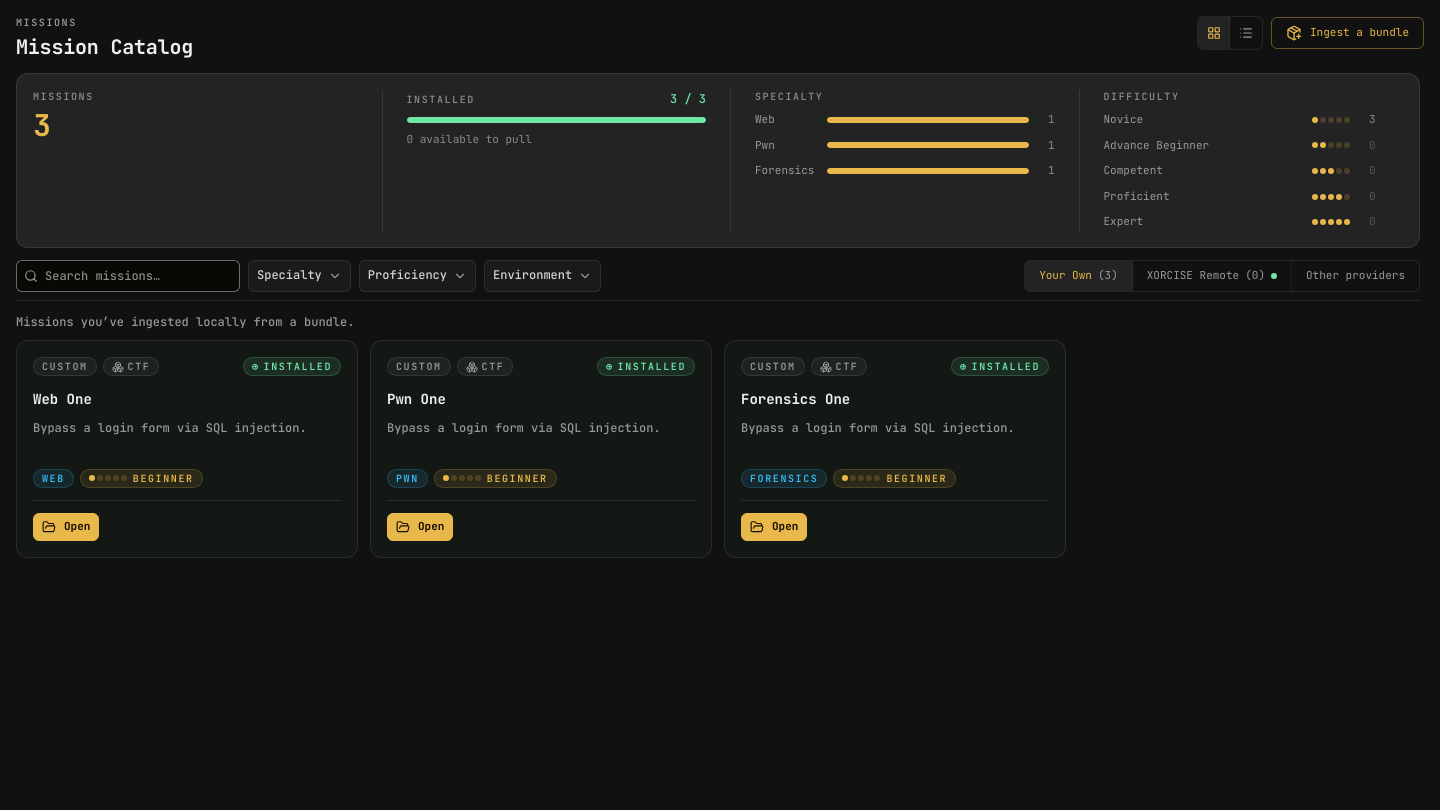
Test case: MissionCatalog › narrows the grid by SEVERAL specialties at once, and clears back to all
Expected: the text "Web One" is shown, left=33, top=390, right=92, bottom=408
Click the button "Specialty" at (299, 276), box left=248, top=260, right=351, bottom=292
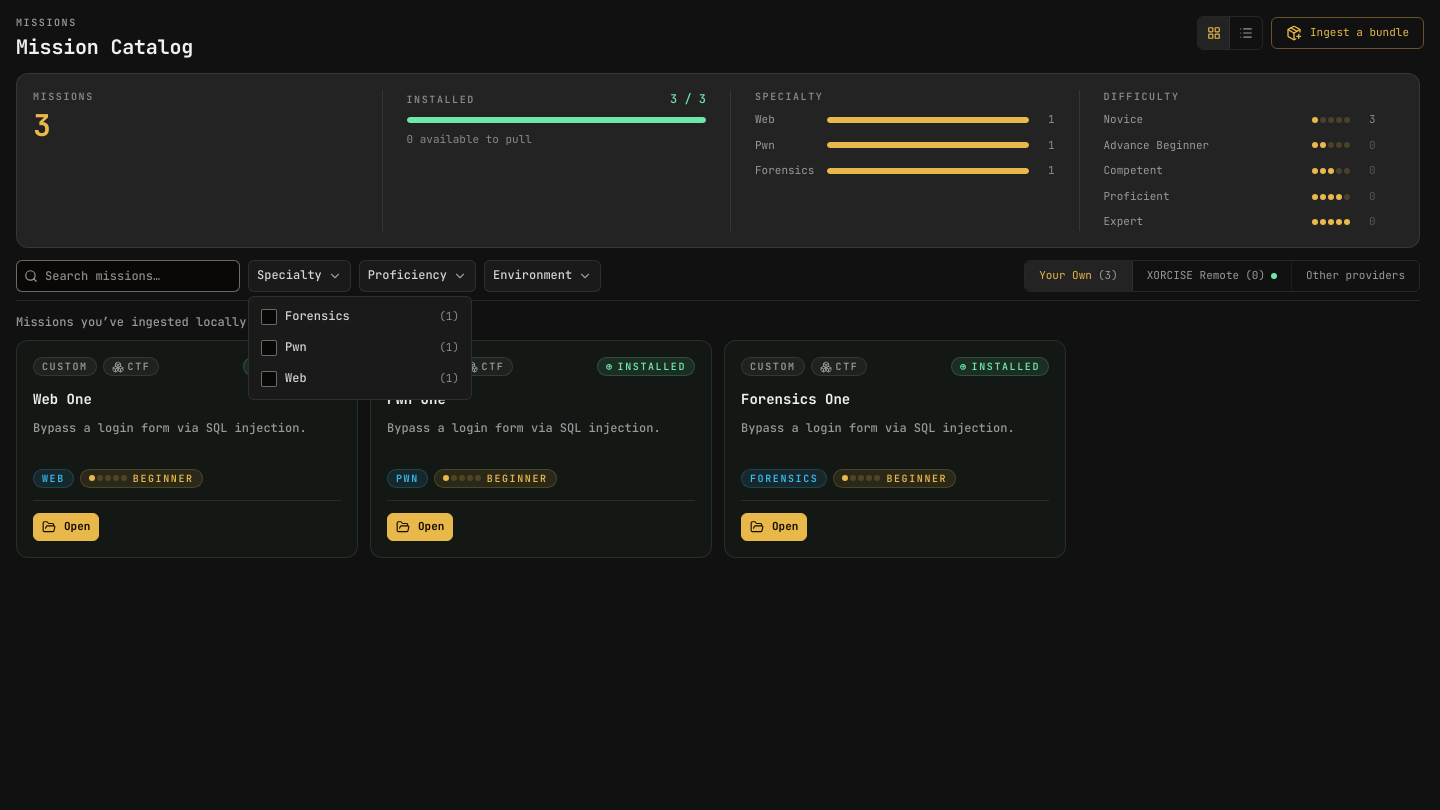
Click the checkbox labelled "Web" at (269, 379), box left=261, top=370, right=459, bottom=387
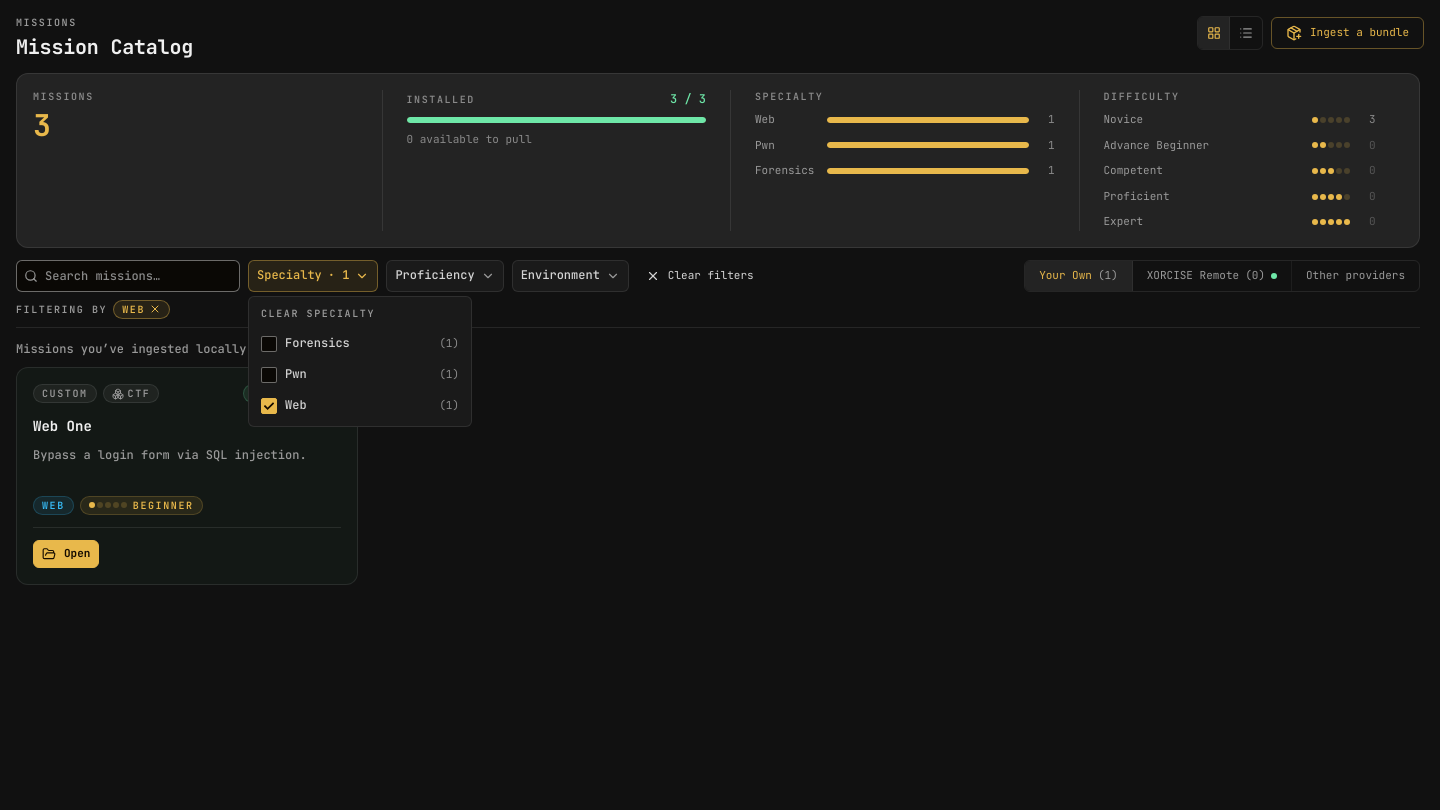
Click the checkbox labelled "Pwn" at (269, 375), box left=261, top=366, right=459, bottom=383
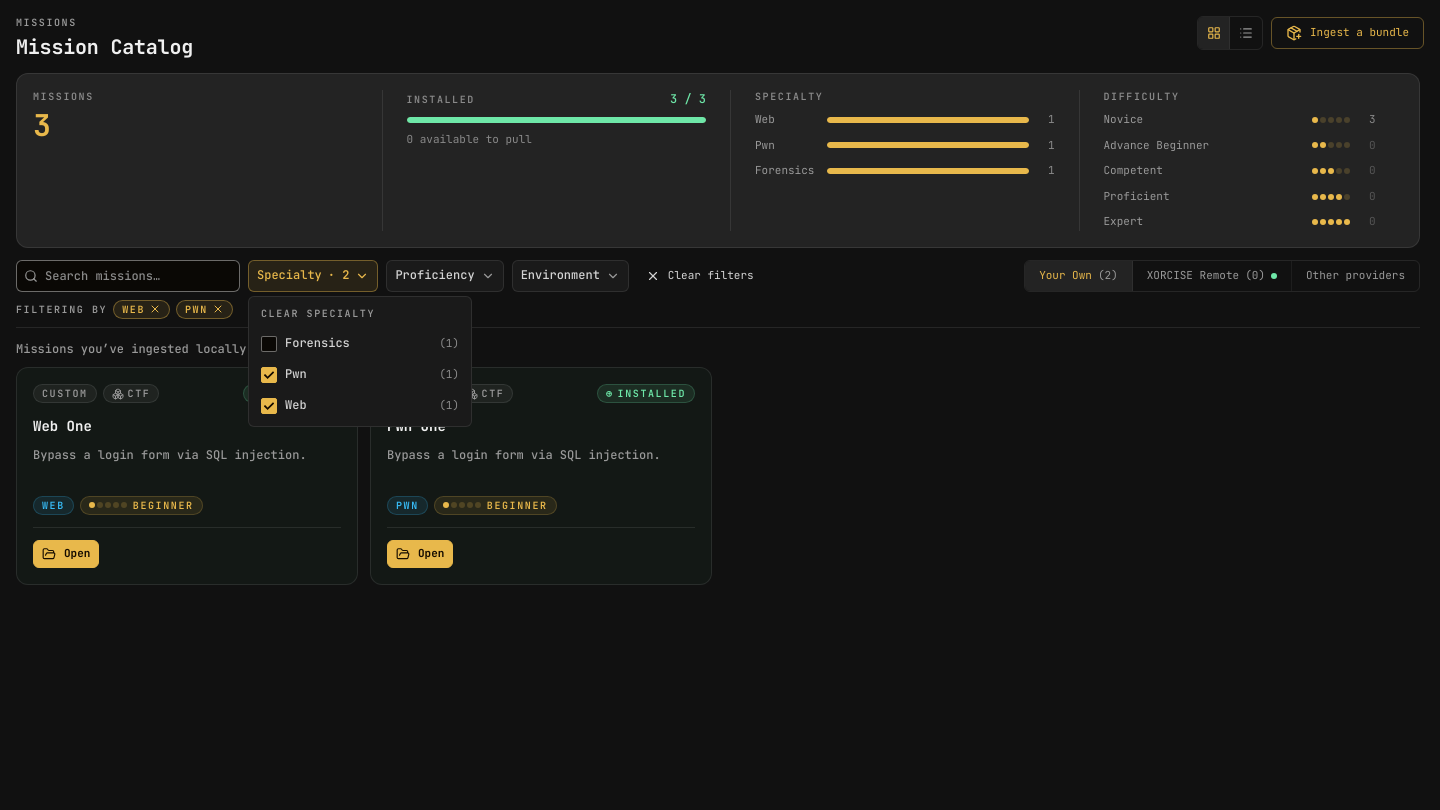
Expected: the text "Web One" is shown, left=33, top=417, right=92, bottom=435
Expected: the text "Pwn One" is shown, left=387, top=417, right=446, bottom=435
Click the button "Clear filters" at (700, 276), box left=637, top=262, right=763, bottom=290
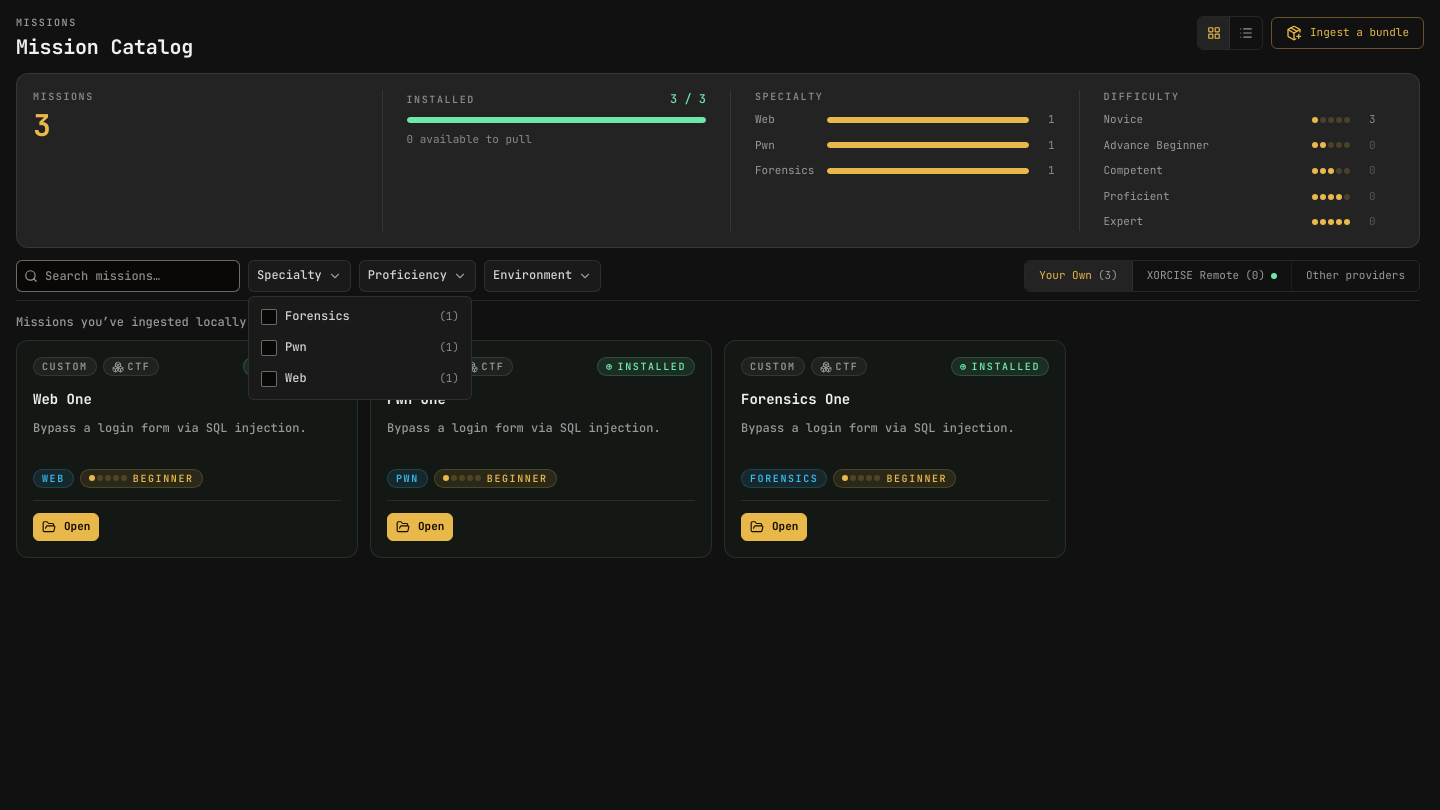
Expected: the text "Forensics One" is shown, left=741, top=390, right=850, bottom=408
